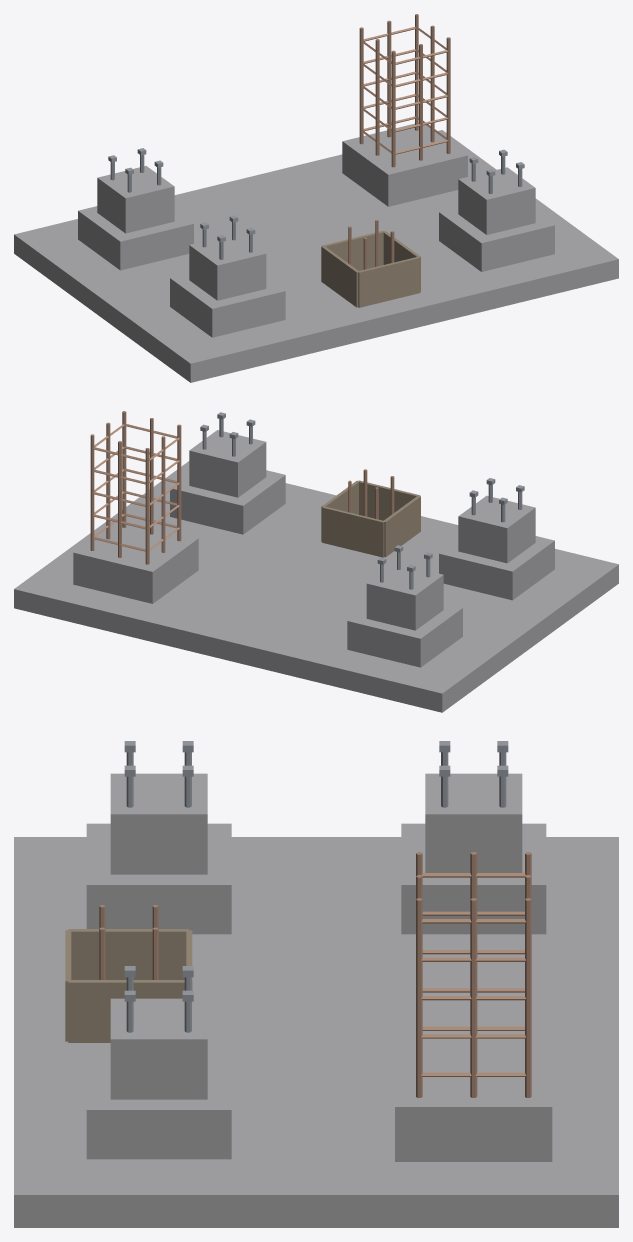
The model's file is obra-civil.glb.
The picture shows the model from 3 angles, top to bottom: view 1: azimuth 30°, elevation 25°; view 2: azimuth 150°, elevation 25°; view 3: azimuth 270°, elevation 25°; orthographic projection. The views are drawn at different scales.
Visible parts, largest first — view 1: world; view 2: world; view 3: world.
Part boxes in pixels (left/top/right/bottom): world: left=14, top=14, right=618, bottom=382; world: left=14, top=411, right=618, bottom=712; world: left=14, top=741, right=618, bottom=1227.
Bounding box in the file's own units: 7 × 2.6 × 5.
